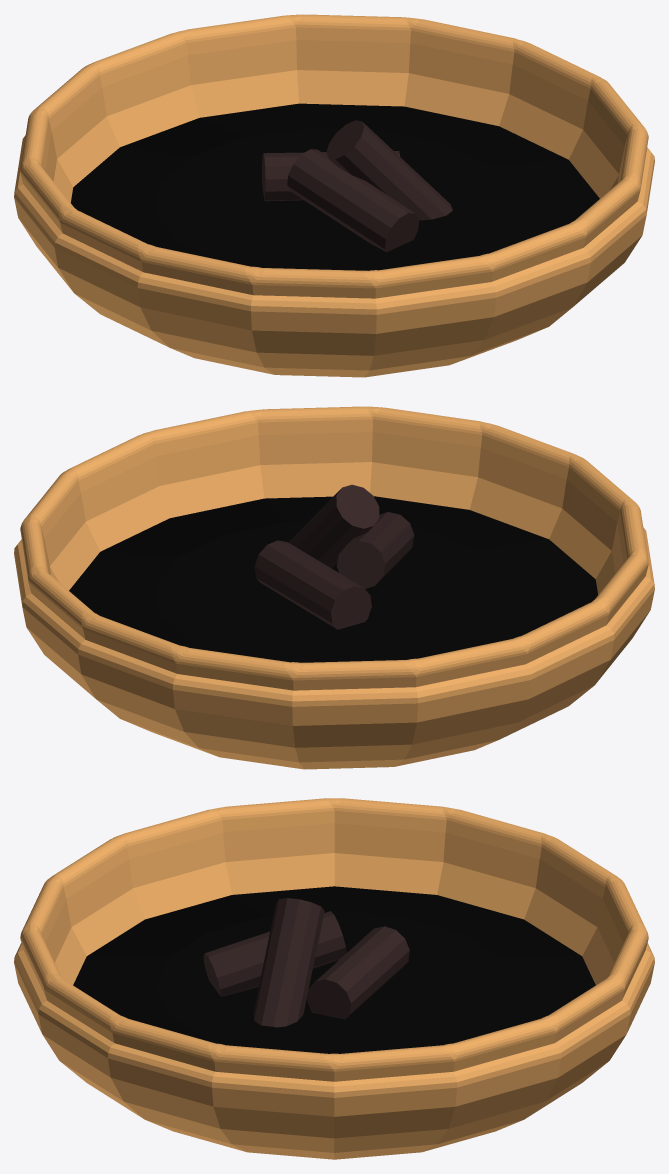
File: Small Firebowl.fbx
3 renders of one model, top to bottom at view 1: azimuth 30°, elevation 25°; view 2: azimuth 150°, elevation 25°; view 3: azimuth 270°, elevation 25°, orthographic.
Visible parts, largest first — view 1: Kleine Feuerschale; view 2: Kleine Feuerschale; view 3: Kleine Feuerschale.
Boxes of the visible parts, x1=… form: Kleine Feuerschale: x1=14, y1=14, x2=654, y2=377; Kleine Feuerschale: x1=14, y1=406, x2=654, y2=769; Kleine Feuerschale: x1=14, y1=798, x2=654, y2=1159.
Size of the model in its own units: 58.15 by 16.9 by 58.15.
